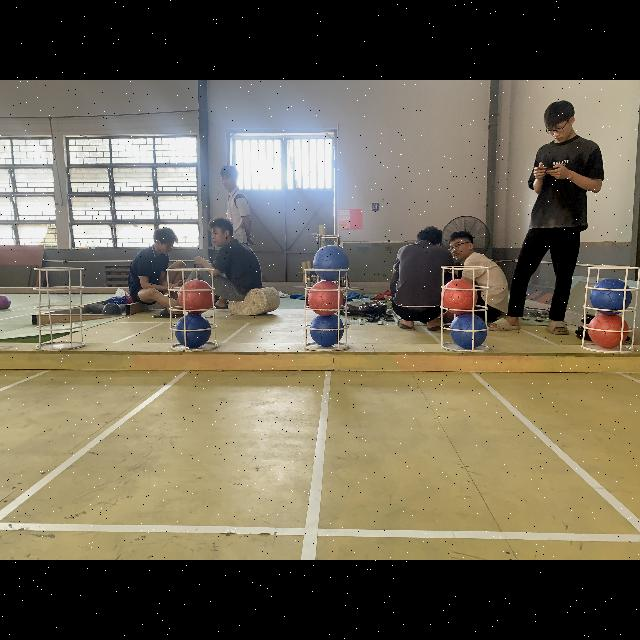B: (590, 279, 632, 315), (174, 314, 212, 350), (449, 313, 486, 349), (314, 246, 348, 280), (309, 314, 343, 346)
R: (587, 314, 629, 348), (438, 278, 476, 314), (178, 279, 214, 313), (306, 282, 340, 316)
